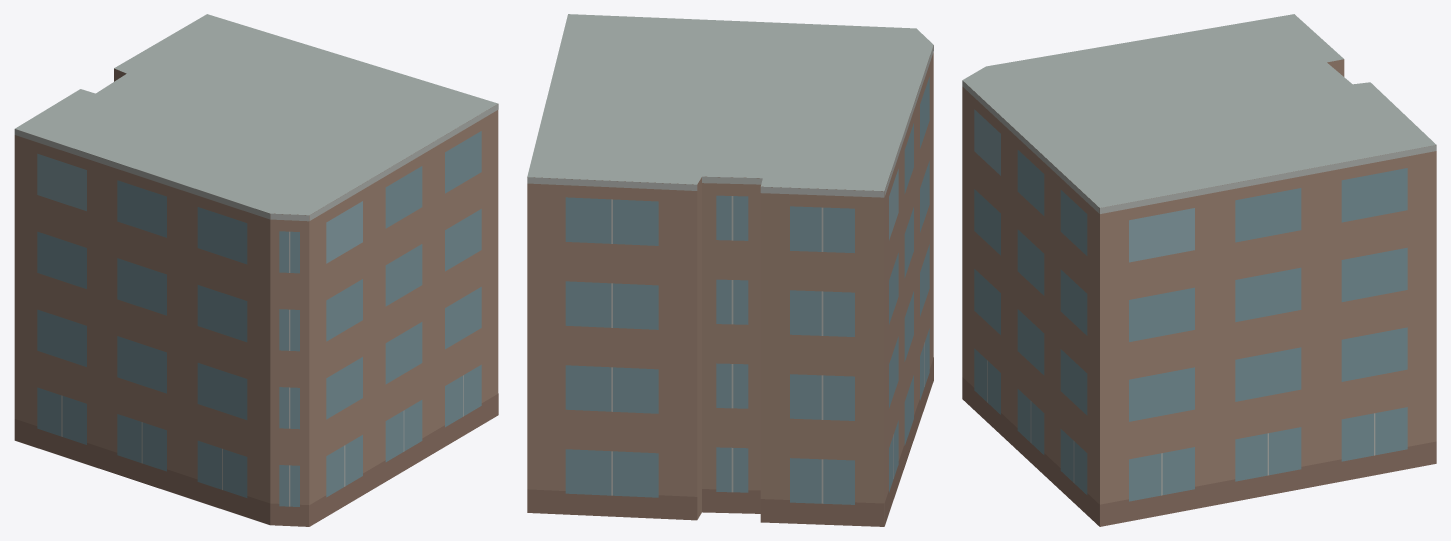
File: survey-upis-32620435.glb
3 views of the same model, side by side, from view 1: azimuth 30°, elevation 25°; view 2: azimuth 150°, elevation 25°; view 3: azimuth 270°, elevation 25° (orthographic). The views are drawn at different scales.
Visible parts, largest first — view 1: survey-upis-32620435.tmp; view 2: survey-upis-32620435.tmp; view 3: survey-upis-32620435.tmp.
Part boxes in pixels (<box>): survey-upis-32620435.tmp: <box>14,14,498,526</box>; survey-upis-32620435.tmp: <box>527,14,933,526</box>; survey-upis-32620435.tmp: <box>962,14,1436,526</box>.
Bounding box in the file's own units: 16.59 × 12.7 × 17.13.
